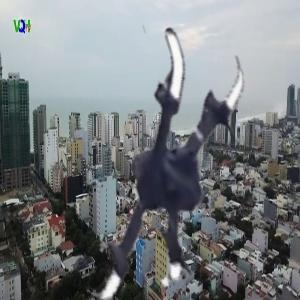drone: (8, 26, 283, 300)
